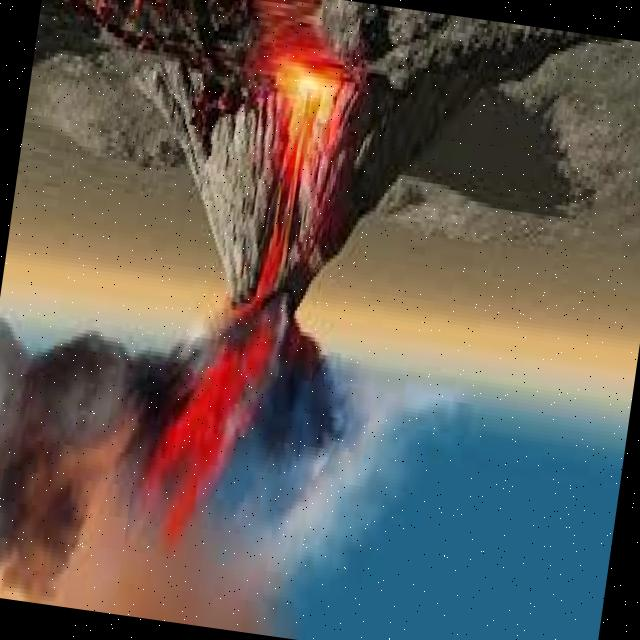explosion: (68, 0, 396, 569)
